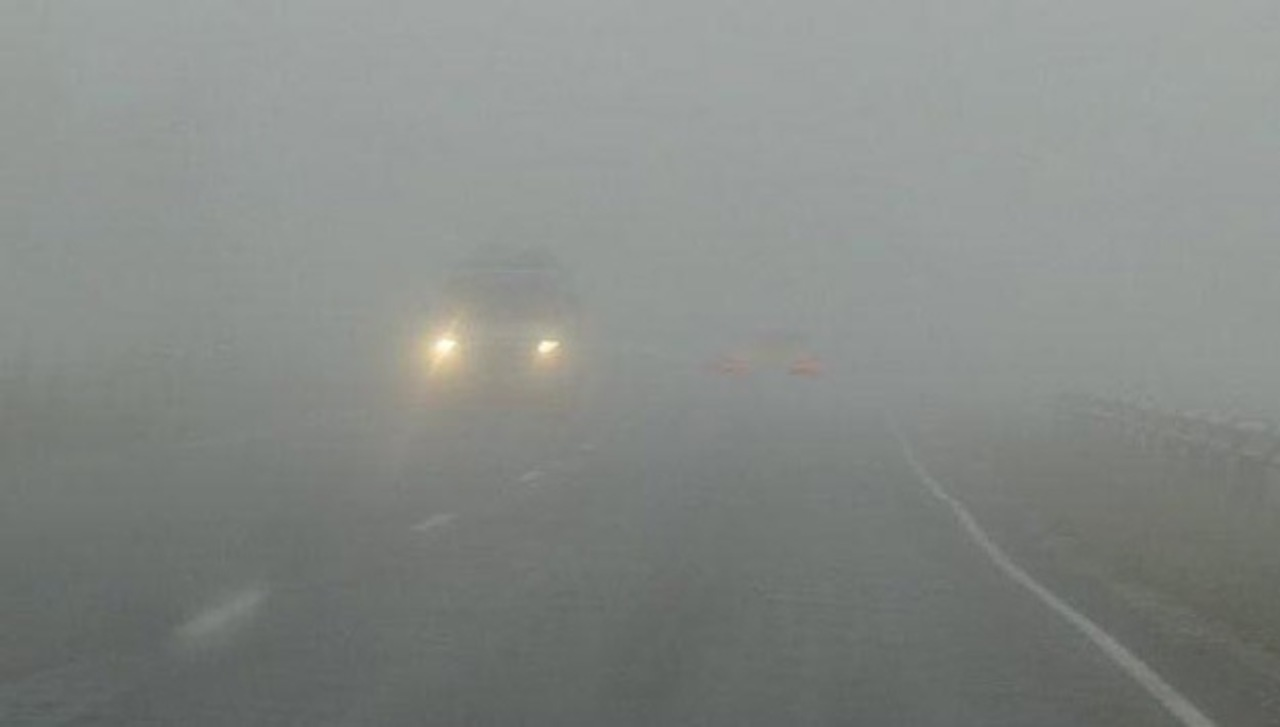car: (430, 262, 587, 405), (714, 315, 821, 399)
